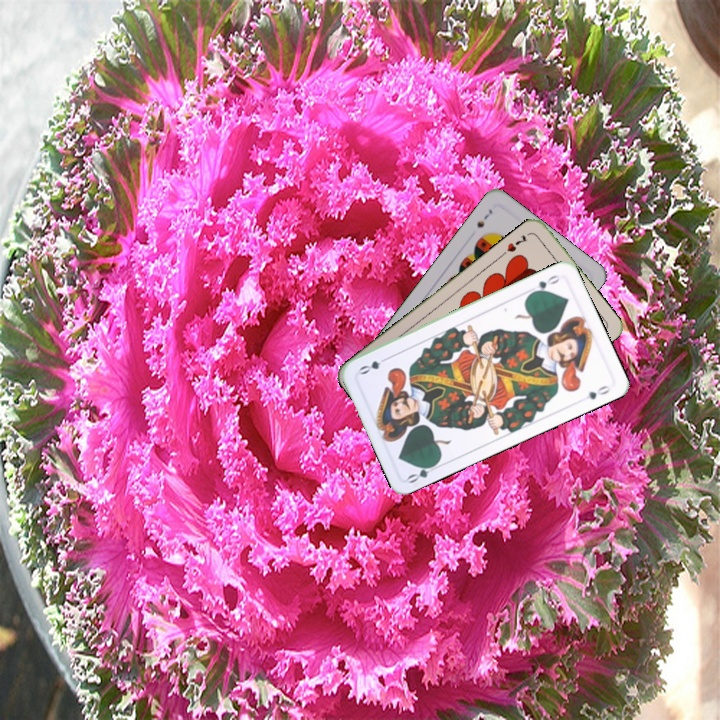GO: (403, 458, 443, 486), (526, 271, 562, 297)
H7: (498, 231, 530, 259)
S7: (473, 205, 495, 230)
